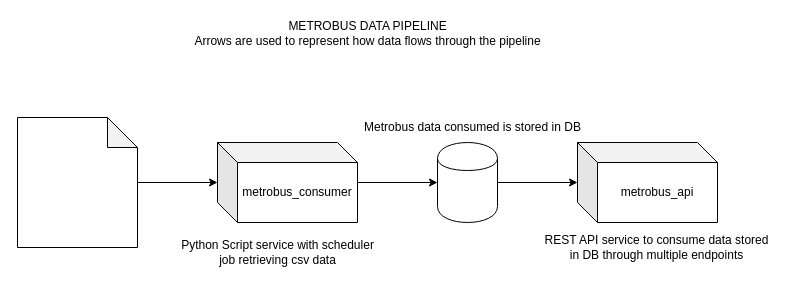
This 791x284 diagram has some shape labels left out. Each missing label, with the box of its shape:
DB: (436, 142, 498, 222)
metrobus_data.csv: (16, 116, 138, 248)
